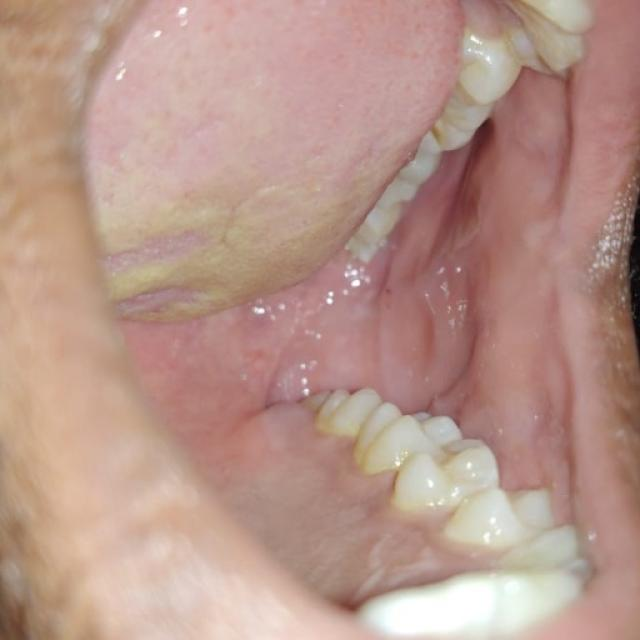processing_area: (79, 4, 638, 636)
